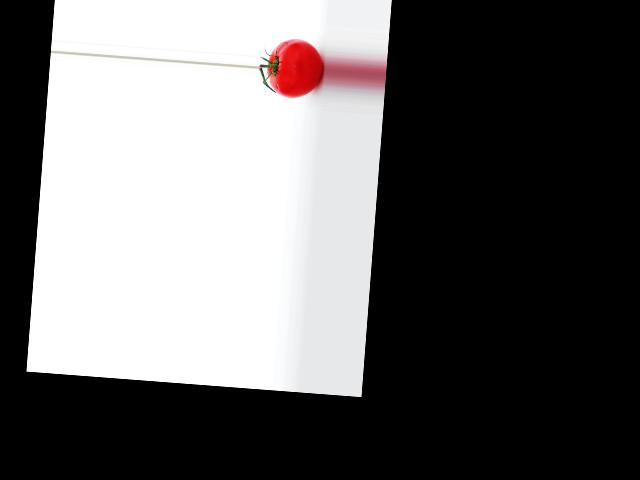tomato: (265, 36, 325, 99)
